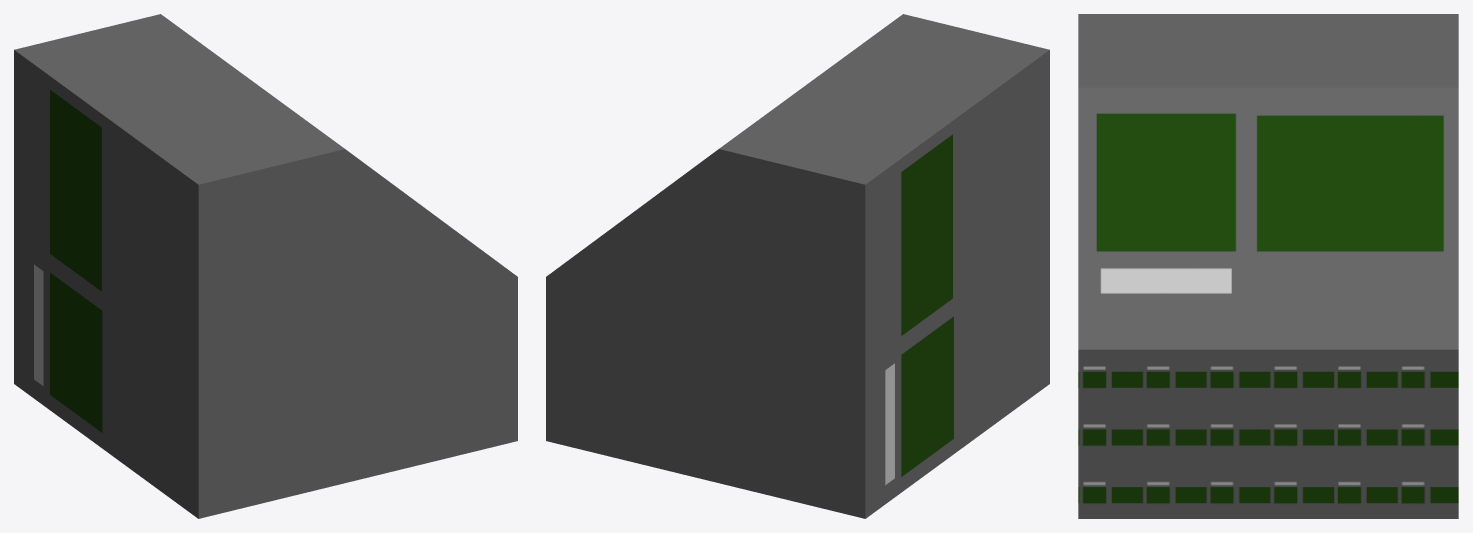
The model's file is comp.gltf.
3 views of the same model, side by side, from view 1: azimuth 30°, elevation 25°; view 2: azimuth 150°, elevation 25°; view 3: azimuth 270°, elevation 25° (orthographic). The views are drawn at different scales.
Visible parts, largest first — view 1: Cube; view 2: Cube; view 3: Cube.
Part boxes in pixels (<box>): Cube: <box>14,14,517,518</box>; Cube: <box>546,14,1049,518</box>; Cube: <box>1078,14,1458,518</box>.
Bounding box in the file's own units: 2 × 2 × 2.
Materials: 1 (1 with a texture image).
